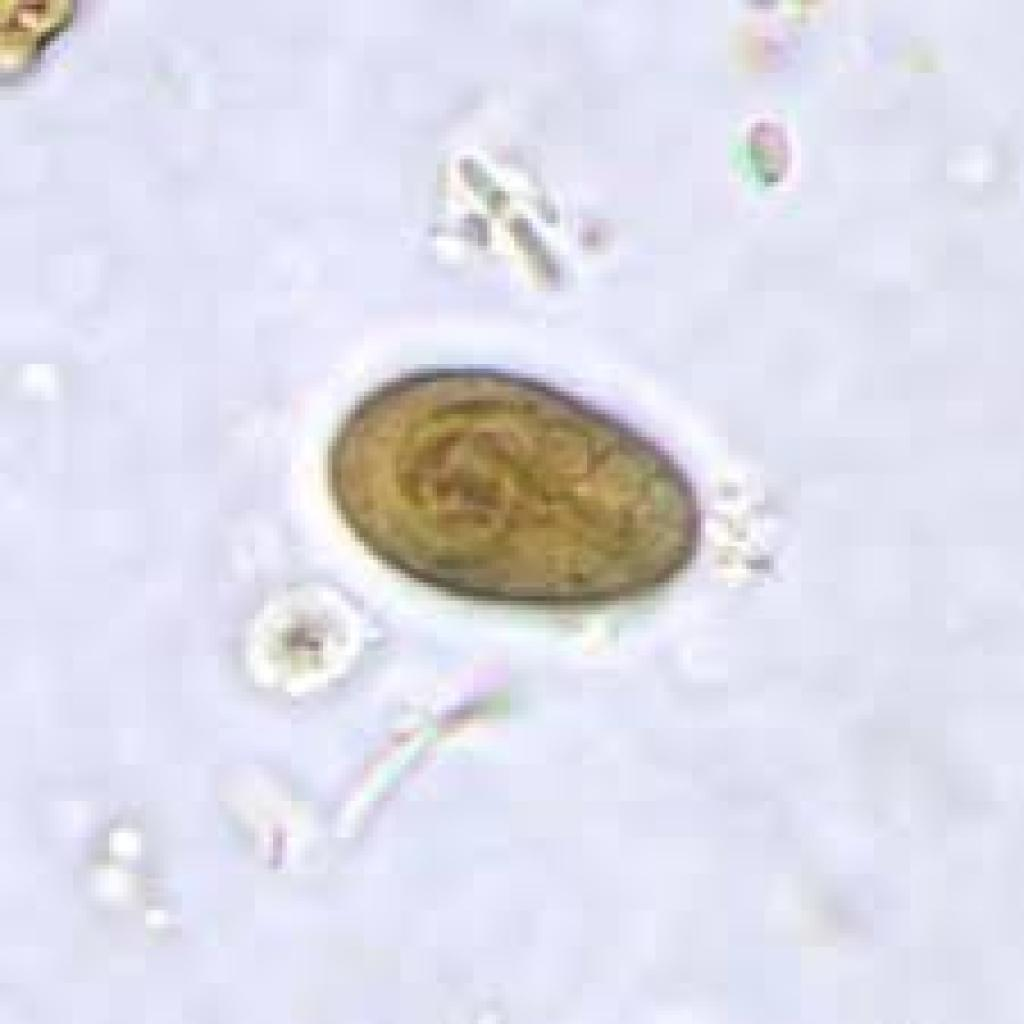Giardia: (318, 355, 706, 605)
